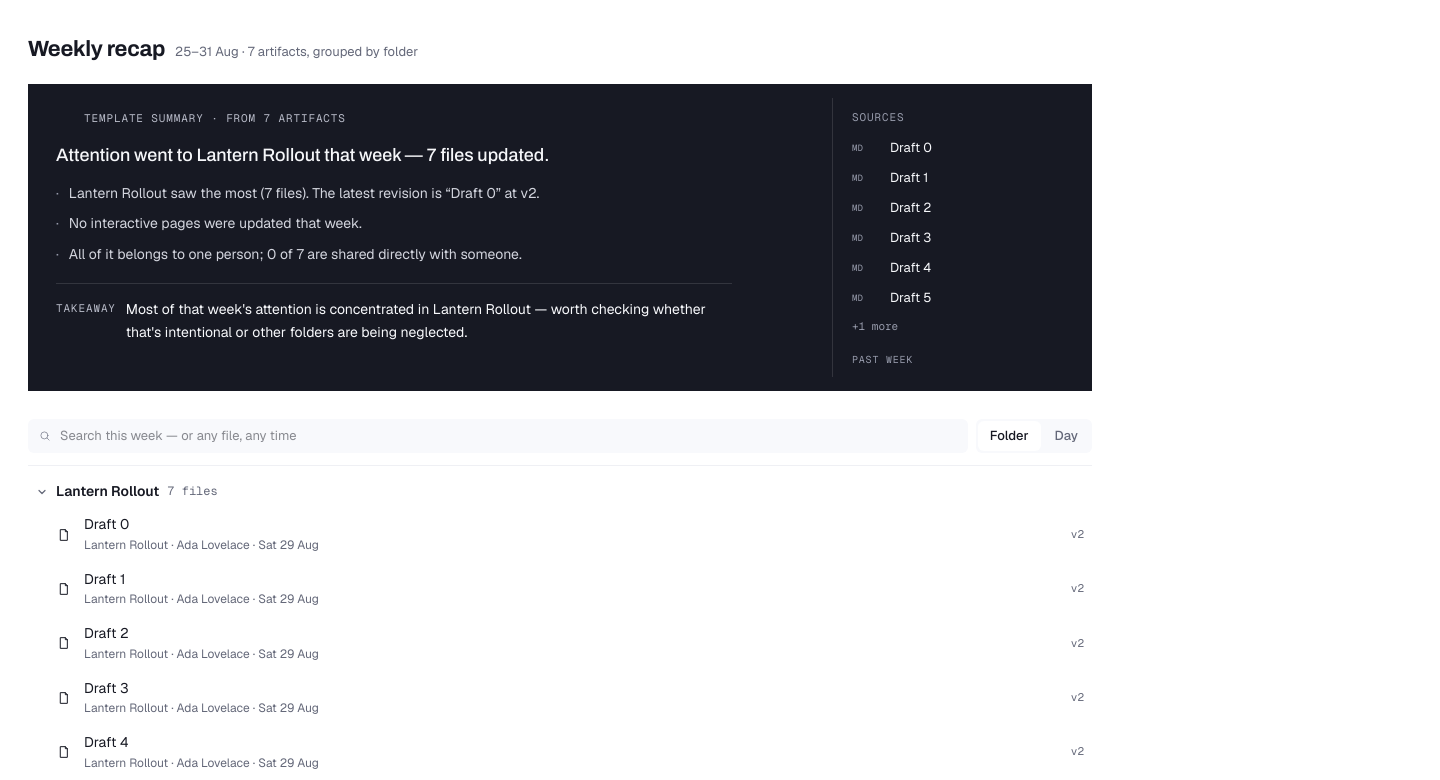
ContextPage › lists every artifact of an overflowing group in the recap dialog
Click the button "Day": [1066, 436] box 1043,421 -> 1090,451
(page scrolled)
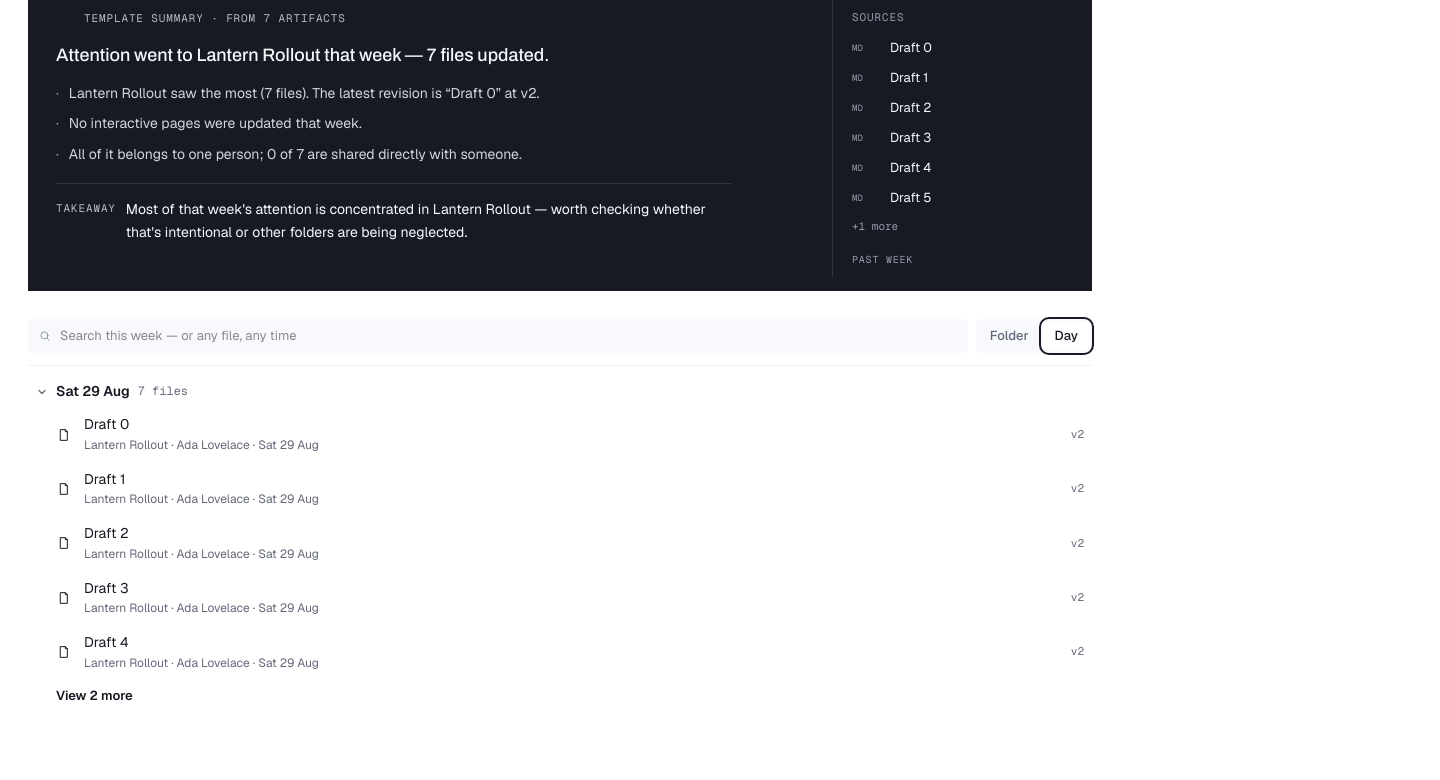
Click the button "View 2 more": [73, 696] box 28,679 -> 1092,714
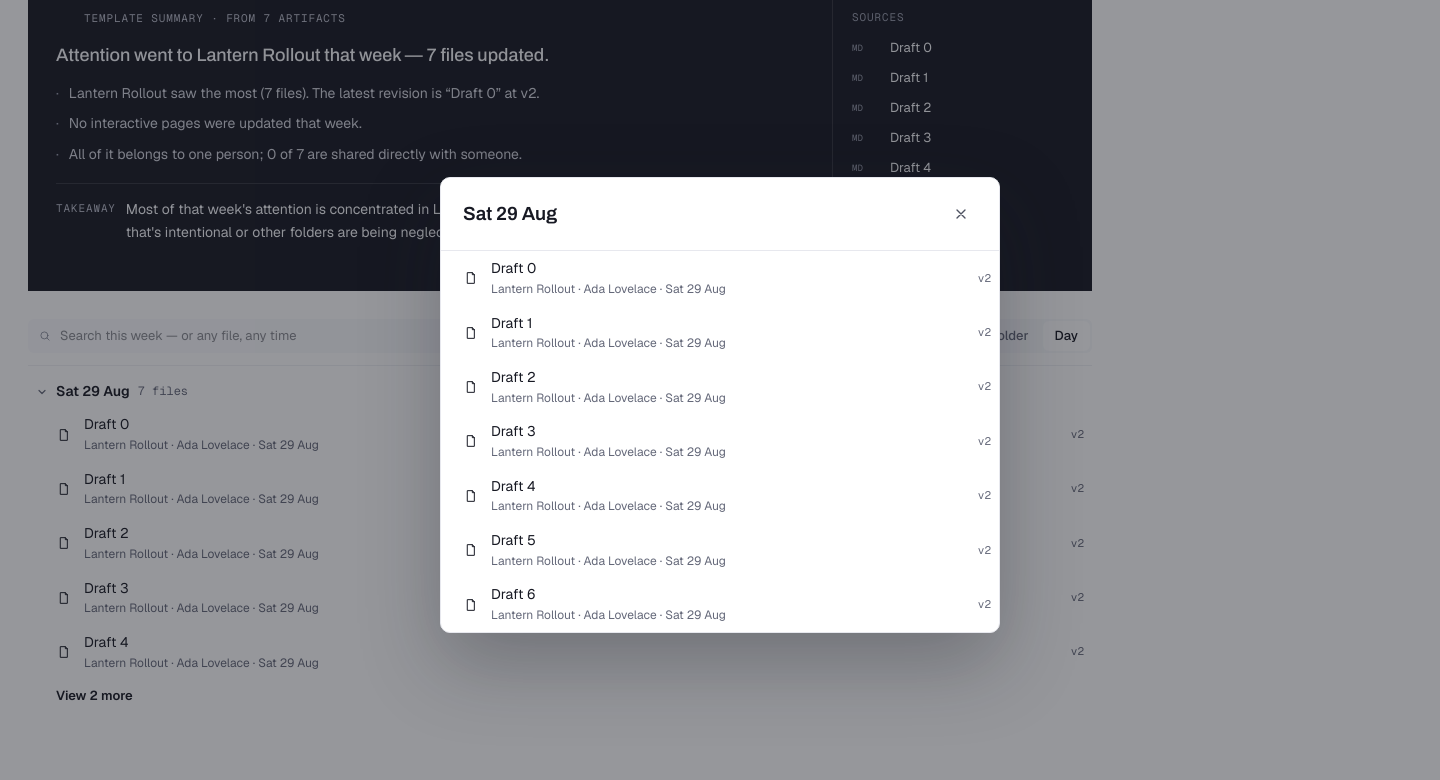
Expected: the text "Draft 6" is shown, 491,586 -> 535,604
Click the button named "Close": [961, 214] box 945,198 -> 977,230
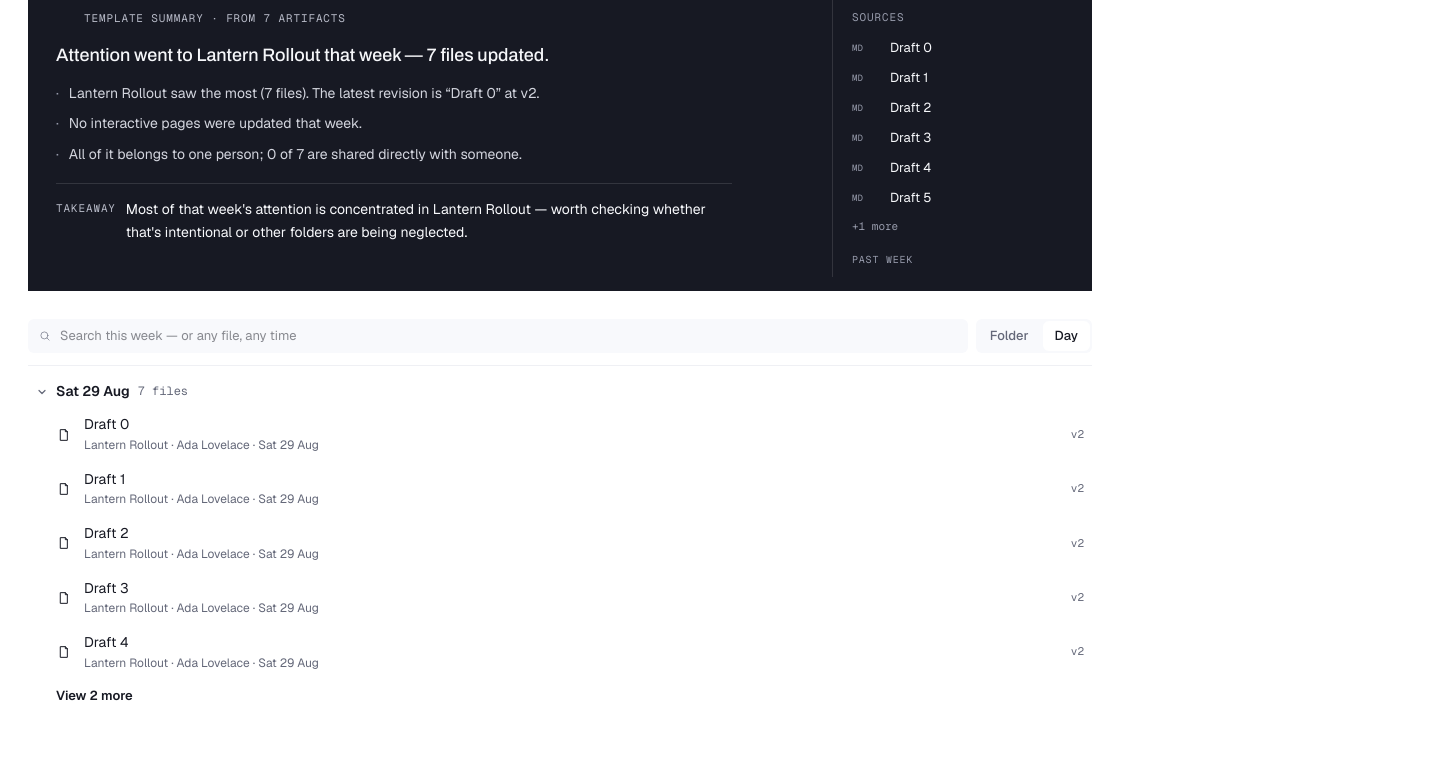
Expected: the dialog is gone
